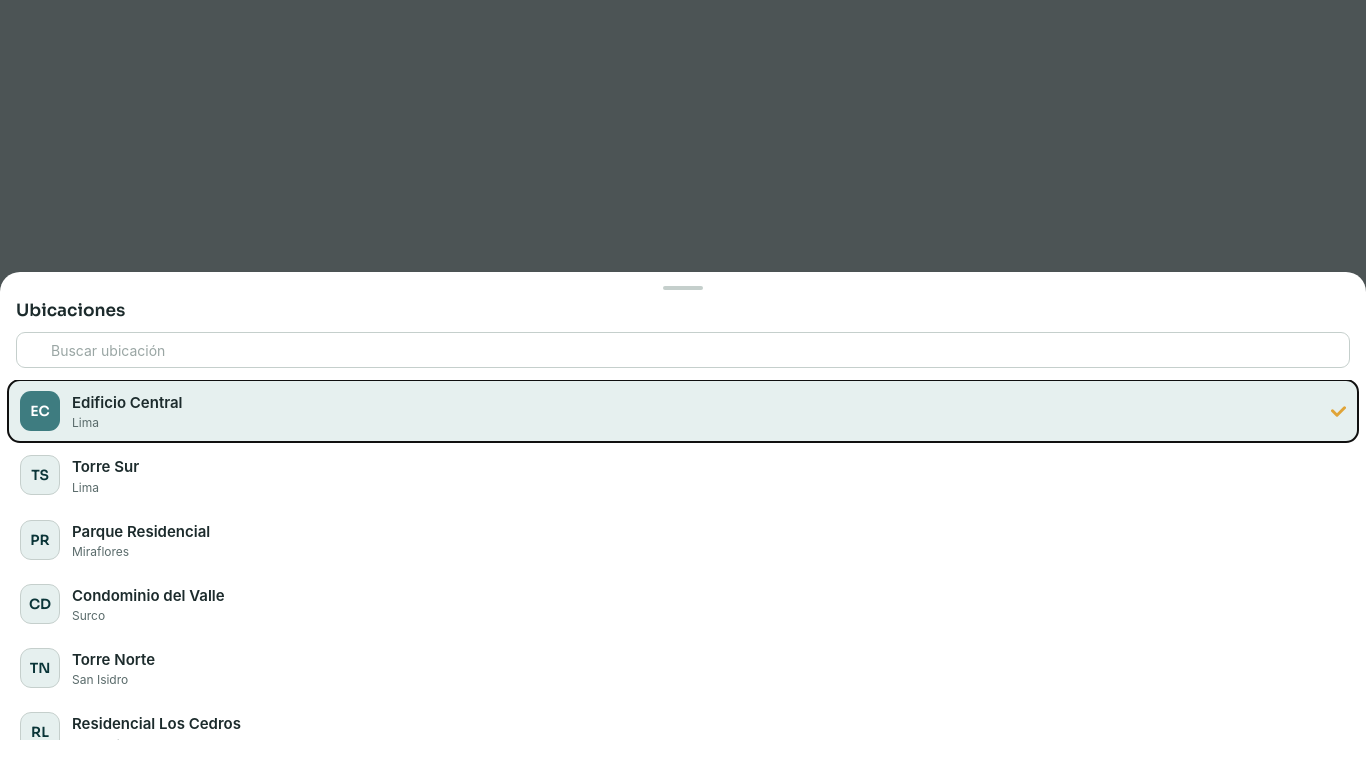
Test: LocationSwitcher › renders the mobile picker as a searchable bottom drawer
The width and height of the screenshot is (1366, 768).
Expected: the text "Ubicaciones" is shown, [16, 302, 125, 318]
In the field labelled "Buscar ubicación": x=683, y=350 [16, 332, 1350, 368], type "Torre Sur"
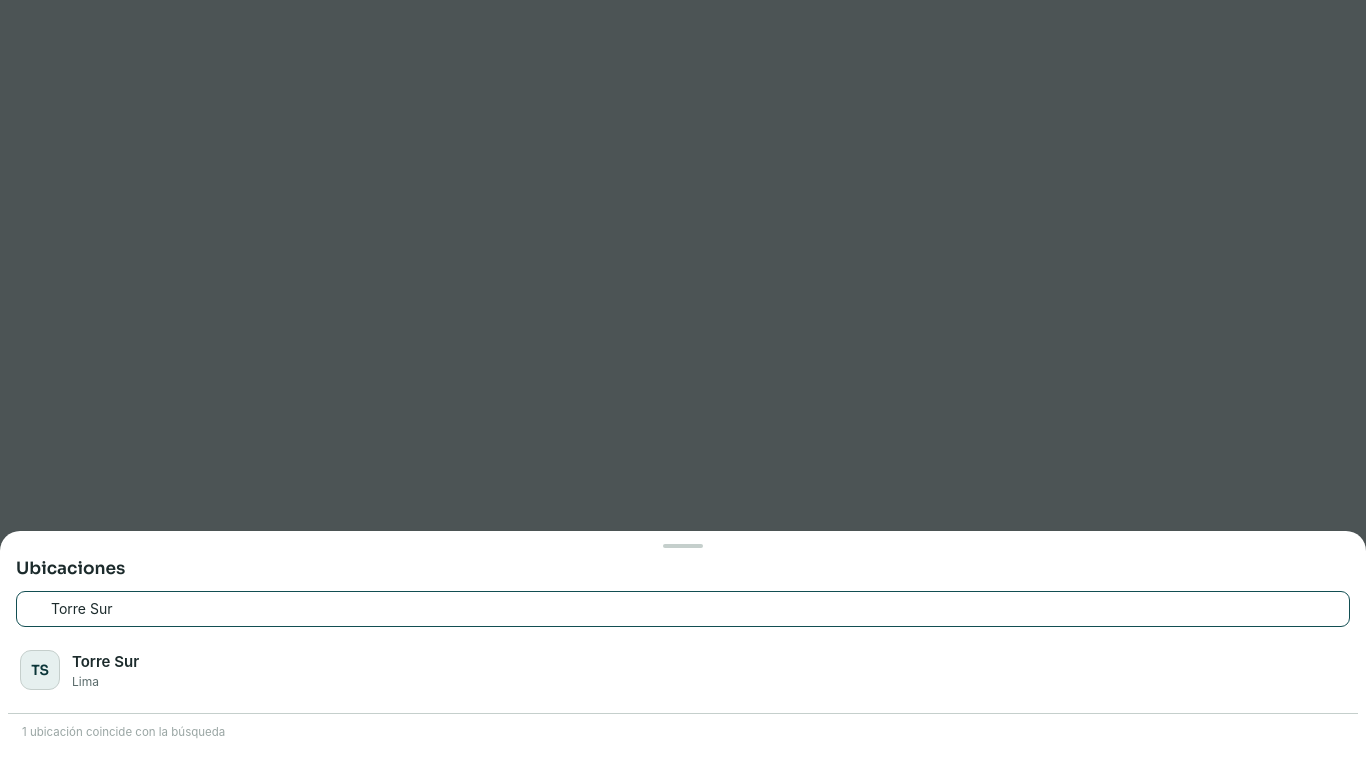
Expected: the text "Torre Sur" is shown, [72, 652, 139, 671]
Expected: the button "Edificio Central" is gone
Expected: the text "1 ubicación coincide con la búsqueda" is shown, [8, 713, 1358, 752]
